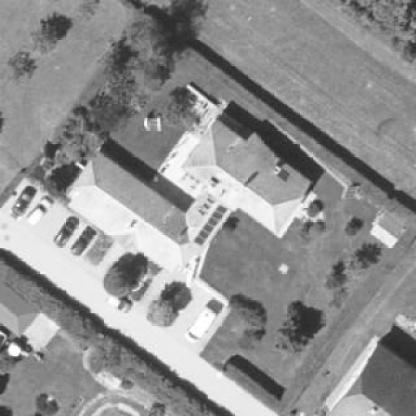solar-pv-panel: (193, 204, 227, 247)
